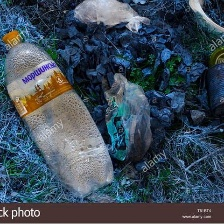bottle: (0, 26, 117, 200)
